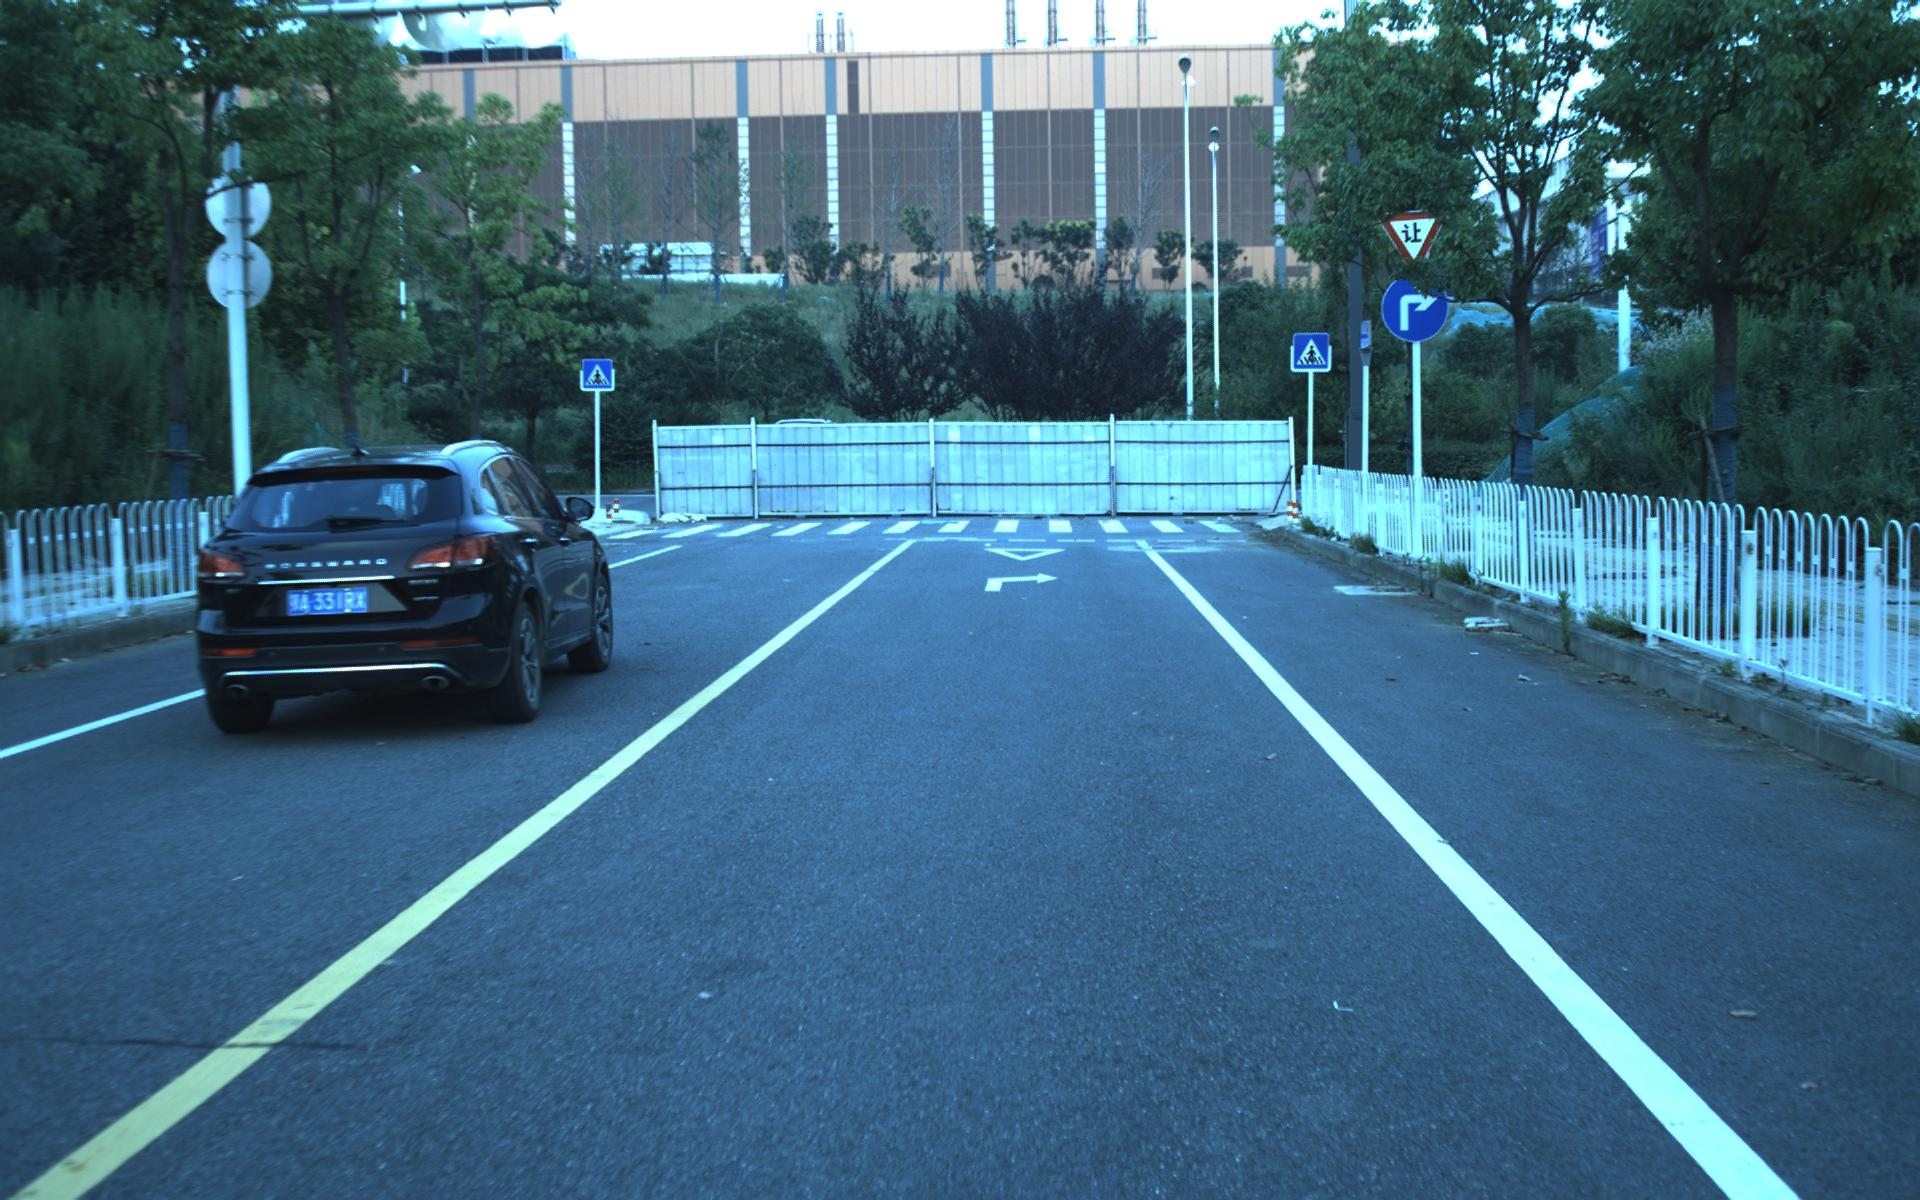Car: (177, 430, 621, 740)
